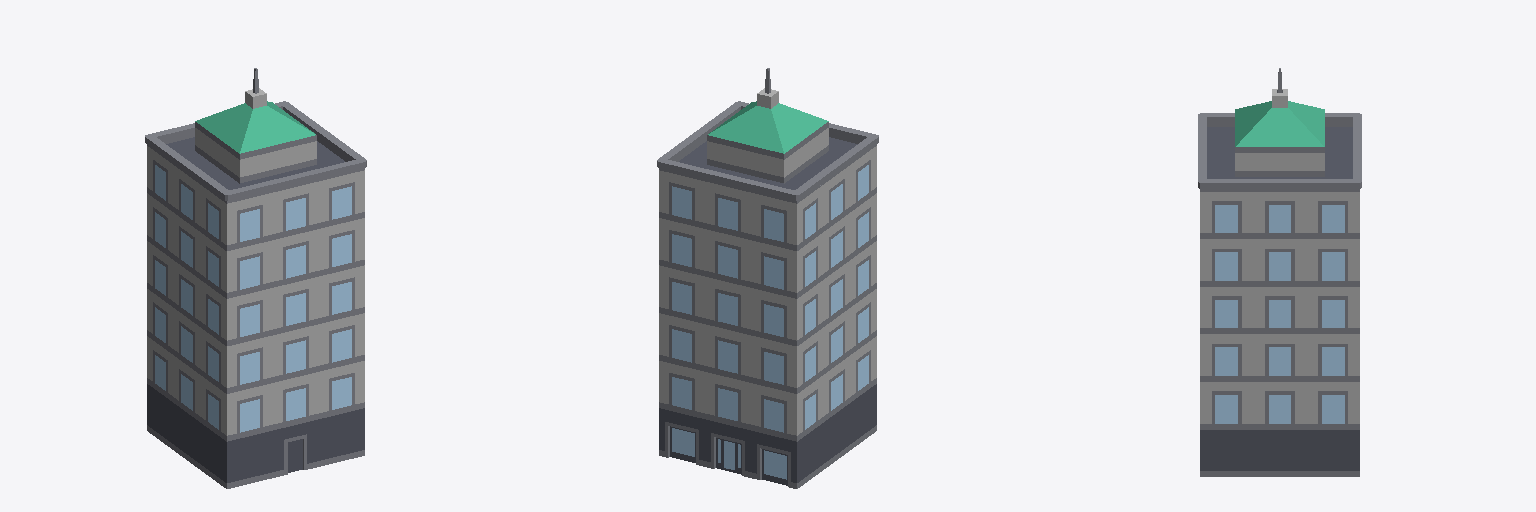
File: city_skyscraper_e.obj
3 renders of one model, left to right at view 1: azimuth 30°, elevation 25°; view 2: azimuth 150°, elevation 25°; view 3: azimuth 270°, elevation 25°, orthographic.
Visible parts, largest first — view 1: mergedBlocks; view 2: mergedBlocks; view 3: mergedBlocks.
Boxes of the visible parts, x1,y1,x2,y2 form: mergedBlocks: [145, 68, 366, 488]; mergedBlocks: [657, 68, 878, 488]; mergedBlocks: [1198, 68, 1361, 476].
Bounding box in the file's own units: 1 × 2.52 × 1.